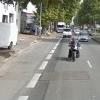Motorcycle: (65, 36, 84, 64)
